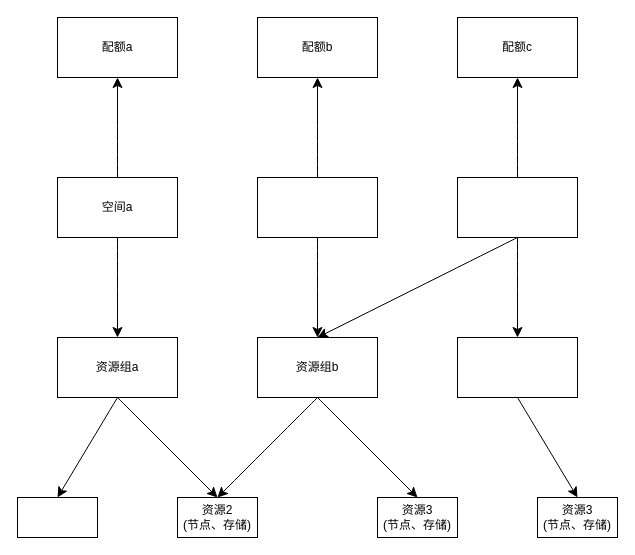
Image size: 635x555. Some labels were removed from this diagram. Here are the shapes that lost their labels. From the top down, the centre of each, then its label:
At point 317,207: "空间b".
At point 517,207: "空间c".
At point 517,367: "资源组c".
At point 57,517: "资源1 (节点、存储)".
